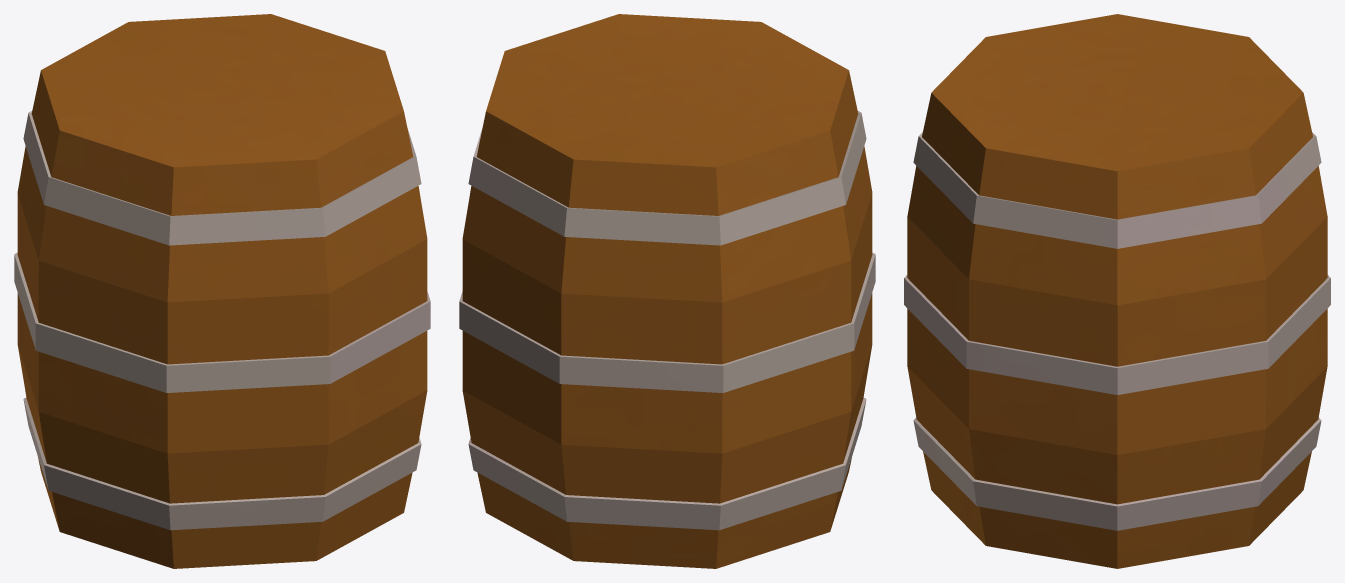
The model's file is Wooden_Crate.fbx.
The picture shows the model from 3 angles, left to right: view 1: azimuth 30°, elevation 25°; view 2: azimuth 150°, elevation 25°; view 3: azimuth 270°, elevation 25°; orthographic projection.
Visible parts, largest first — view 1: Wooden_Crate; view 2: Wooden_Crate; view 3: Wooden_Crate.
Boxes of the visible parts, bbox=[...] form: Wooden_Crate: bbox=[14, 14, 430, 568]; Wooden_Crate: bbox=[459, 14, 875, 568]; Wooden_Crate: bbox=[904, 14, 1330, 568].
Size of the model in its own units: 0.5344 by 0.5492 by 0.5344.
